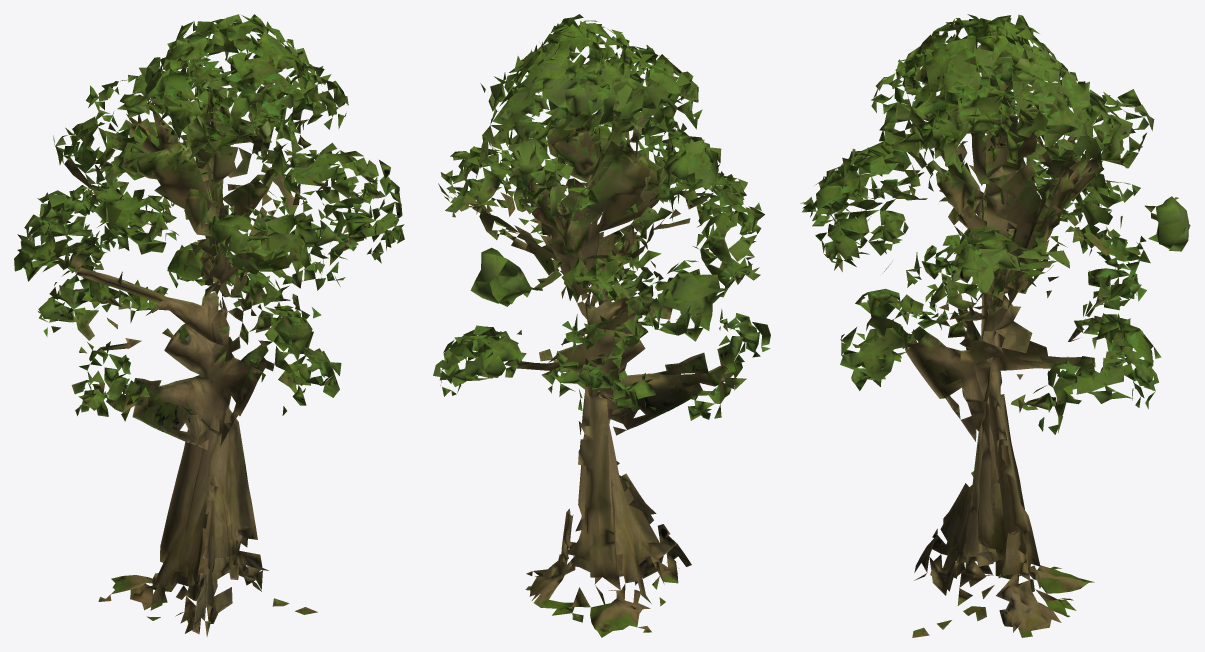
3 views of the same model, side by side, from view 1: azimuth 30°, elevation 25°; view 2: azimuth 150°, elevation 25°; view 3: azimuth 270°, elevation 25° (orthographic). The views are drawn at different scales.
Bounding box in the file's own units: 1.26 × 1.98 × 1.18.
1 material, 1 textured.
